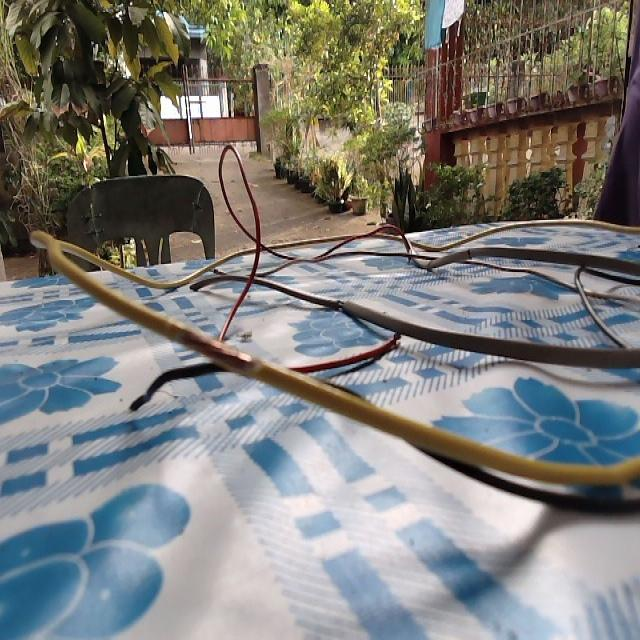-: (162, 318, 260, 378), (331, 296, 351, 316)
